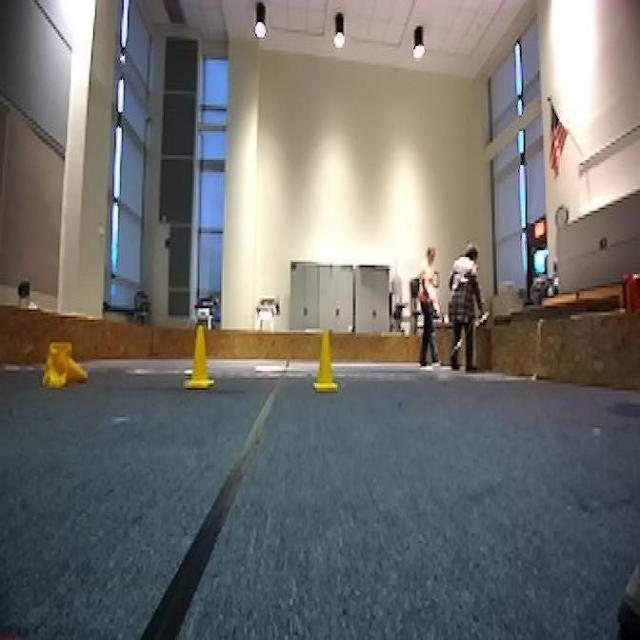frc_cone: (42, 344, 89, 386), (184, 325, 215, 388), (310, 334, 342, 389)
